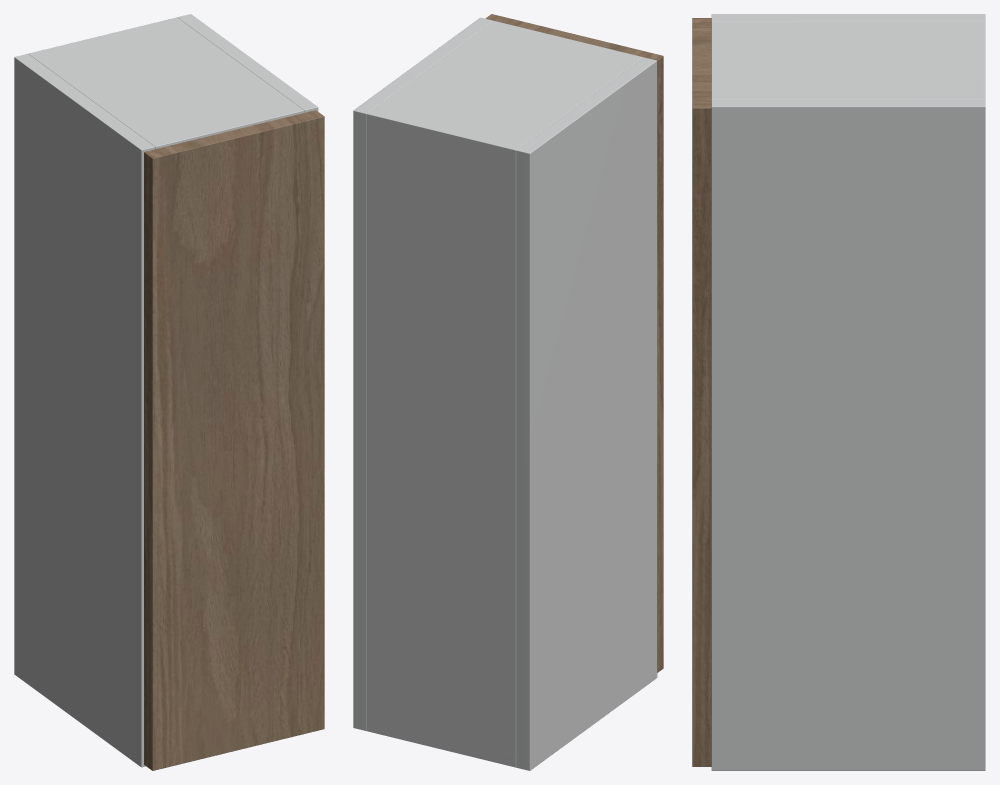
File: oppein-pb-mnw-w0930.glb
3 views of the same model, side by side, from view 1: azimuth 30°, elevation 25°; view 2: azimuth 150°, elevation 25°; view 3: azimuth 270°, elevation 25° (orthographic). The views are drawn at different scales.
Visible parts, largest first — view 1: Door, Cabinet side, Cabinet top, Cabinet side.001, Cabinet back; view 2: Cabinet back, Cabinet side, Cabinet top, Cabinet side.001, Door; view 3: Cabinet side.001, Cabinet top, Door, Cabinet side, Cabinet back.
Boxes of the visible parts, x1,y1,x2,y2 form: Door: [144, 110, 324, 770]; Cabinet side: [14, 53, 154, 767]; Cabinet top: [28, 18, 304, 149]; Cabinet side.001: [177, 14, 318, 112]; Cabinet back: [29, 17, 181, 56]; Cabinet back: [367, 110, 520, 767]; Cabinet side: [516, 57, 657, 770]; Cabinet top: [367, 21, 642, 163]; Cabinet side.001: [353, 17, 493, 731]; Door: [485, 14, 663, 672]; Cabinet side.001: [711, 99, 985, 770]; Cabinet top: [711, 21, 985, 99]; Door: [692, 18, 711, 766]; Cabinet side: [711, 14, 985, 21]; Cabinet back: [974, 21, 984, 99].
Bounding box in the file's own units: 0.2286 × 0.762 × 0.3048.
2 materials, 1 textured.
